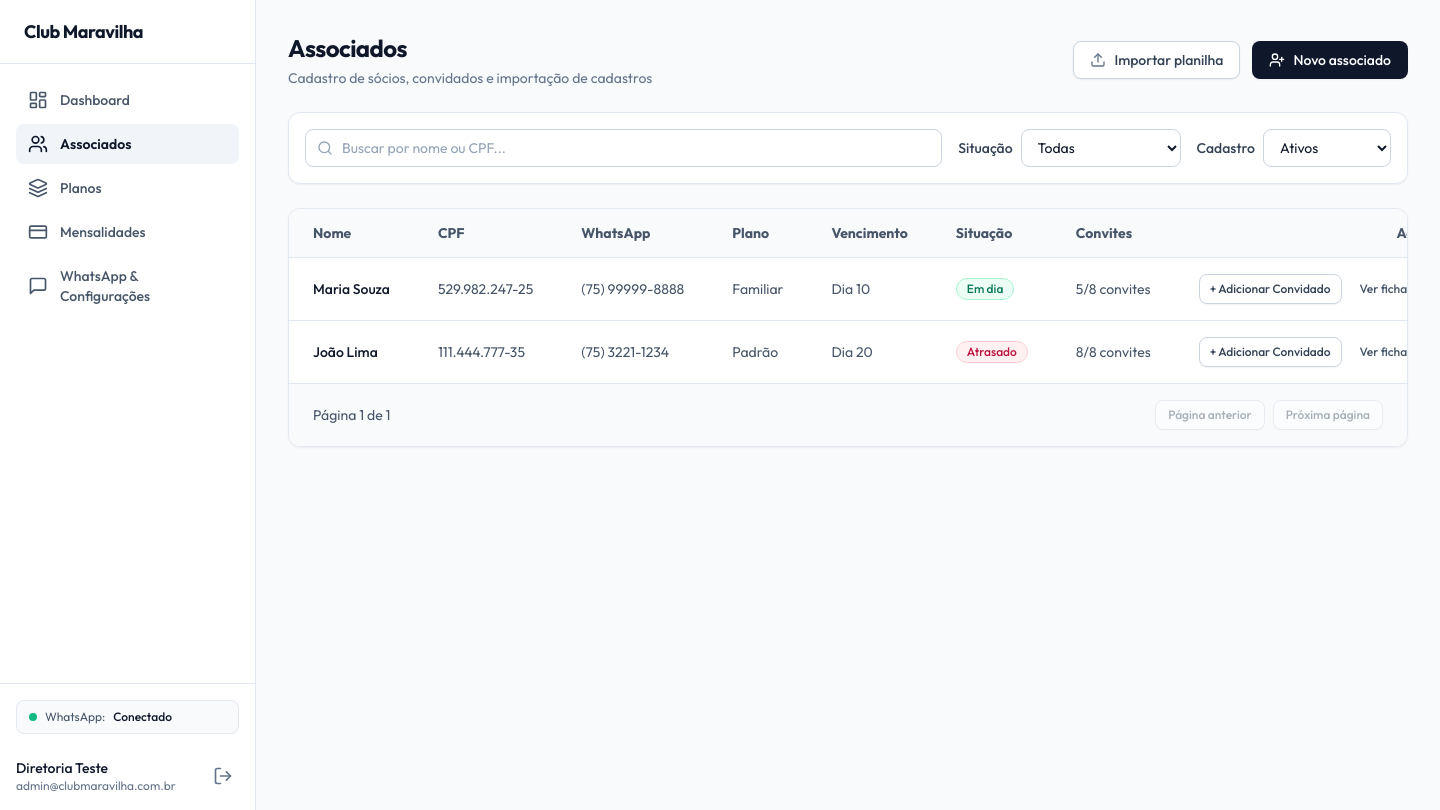
Test: AssociadosPage - busca, filtro e paginação › busca por nome com debounce (uma requisição por termo final)
Type "joão" into the field labelled "Buscar por nome ou CPF" at (624, 148), box [305,129,942,167]
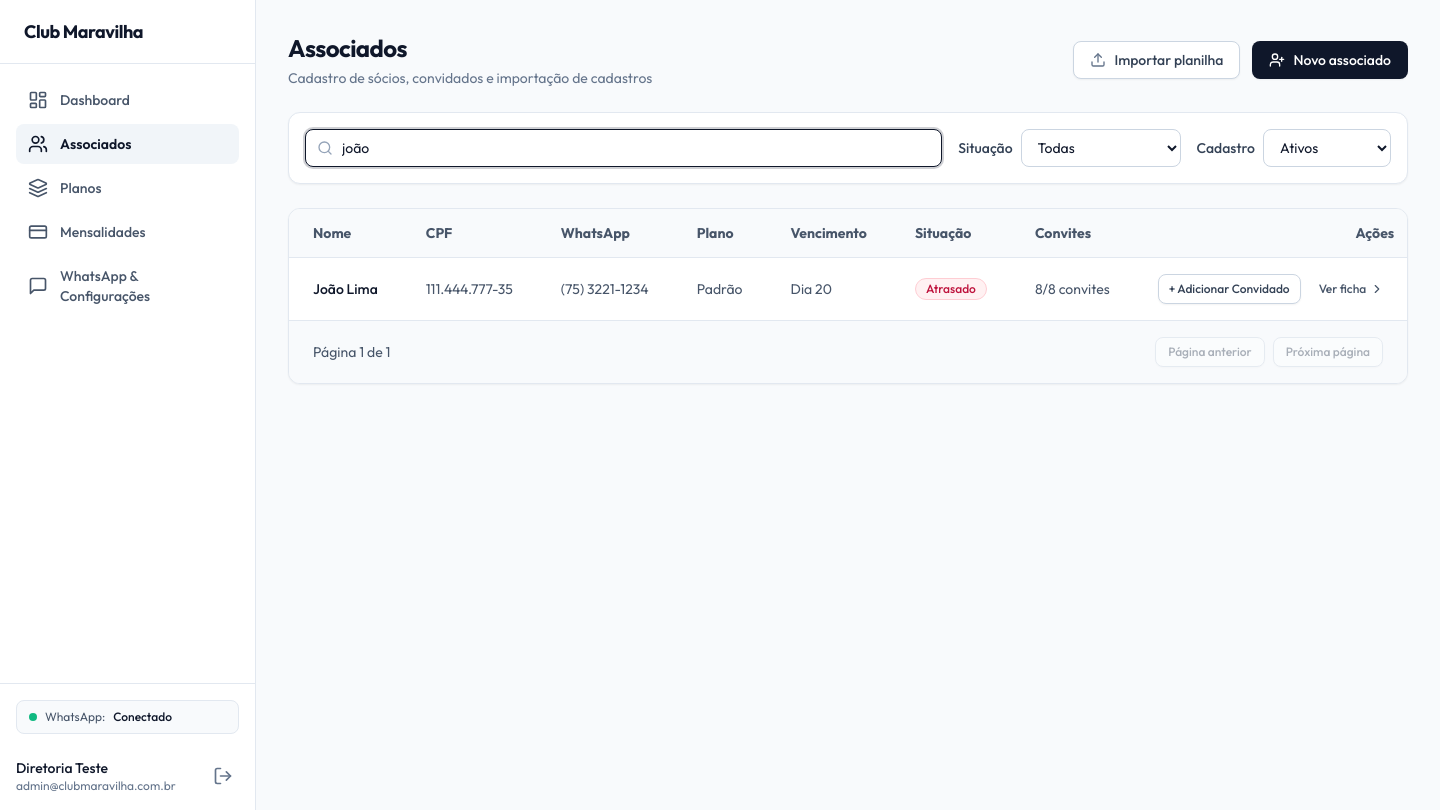
Expected: the row "João Lima" is shown, [289,258,1407,320]
Now the link "Maria Souza" is gone
